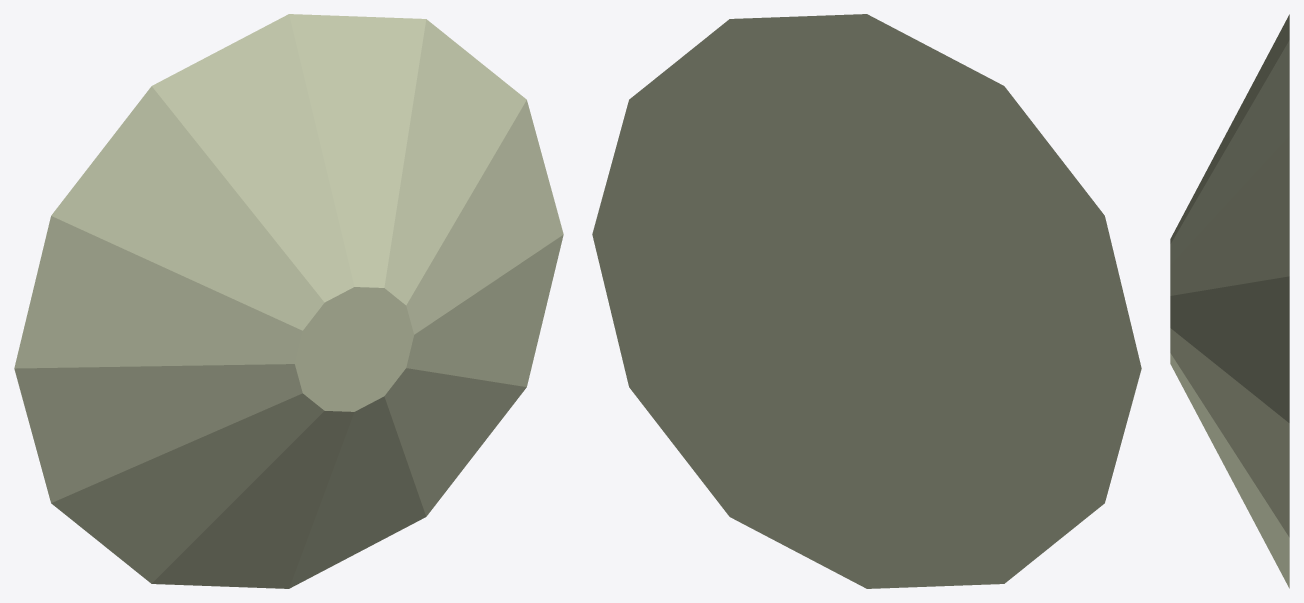
File: 1f_antenna_s0_1_collider.obj
3 views of the same model, side by side, from view 1: azimuth 30°, elevation 25°; view 2: azimuth 150°, elevation 25°; view 3: azimuth 270°, elevation 25° (orthographic). The views are drawn at different scales.
Visible parts, largest first — view 1: collider; view 2: collider; view 3: collider.
Boxes of the visible parts, x1,y1,x2,y2 form: collider: (14, 14, 563, 588); collider: (592, 14, 1141, 588); collider: (1170, 14, 1289, 588).
Bounding box in the file's own units: 0.575 × 0.575 × 0.1188.
